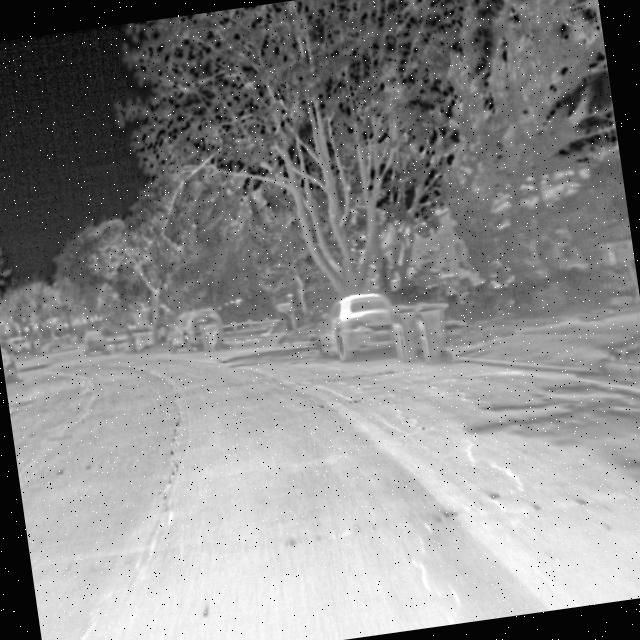Vehicle: (308, 285, 401, 366), (162, 304, 228, 358)
